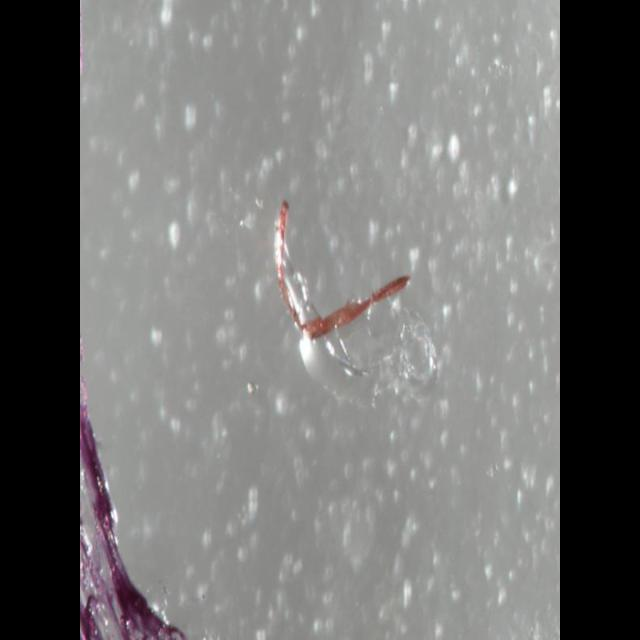Fibre: (273, 196, 415, 366)
